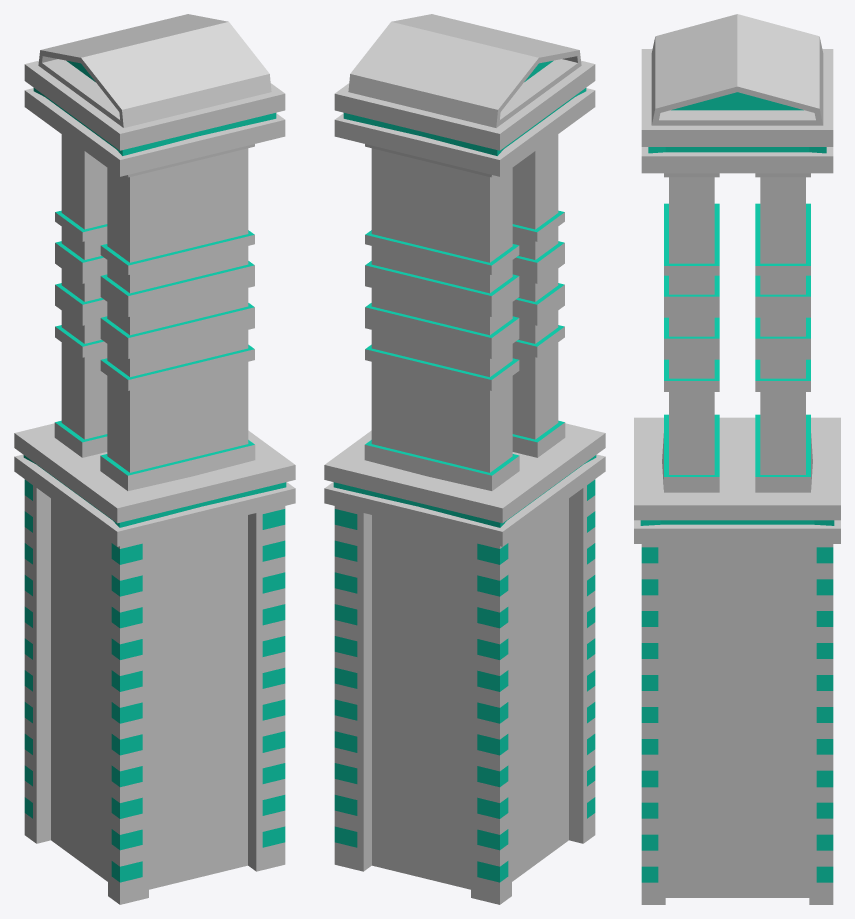
Rendered from SM_Building_Tall_3.fbx.
3 views of the same model, side by side, from view 1: azimuth 30°, elevation 25°; view 2: azimuth 150°, elevation 25°; view 3: azimuth 270°, elevation 25° (orthographic).
Visible parts, largest first — view 1: building_08.003; view 2: building_08.003; view 3: building_08.003.
Part boxes in pixels (x1,y1,x2,y2): building_08.003: (14,14,295,904); building_08.003: (324,14,605,904); building_08.003: (634,14,840,904).
Bounding box in the file's own units: 8 × 34.76 × 8.
